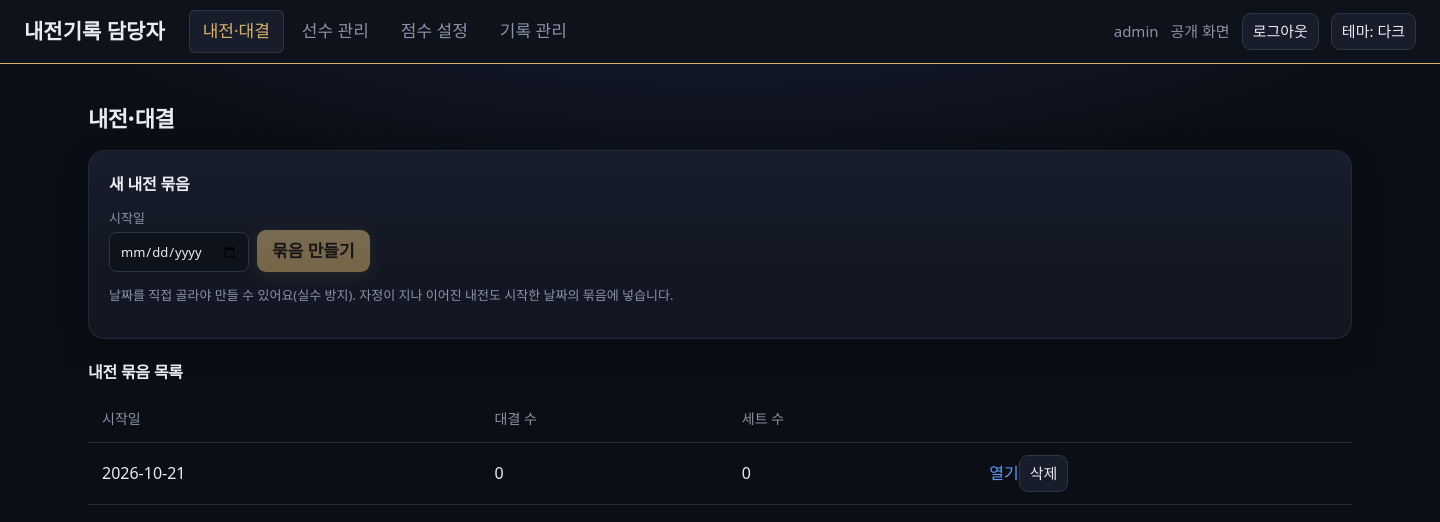
Test: SessionsPage 묶음 삭제 › 확인하면 DELETE하고 목록을 새로 불러와 행이 사라진다
Step 1. Click the button with aria-label "2026-10-21 묶음 삭제" → (1044, 473), box [1019,455,1068,492]
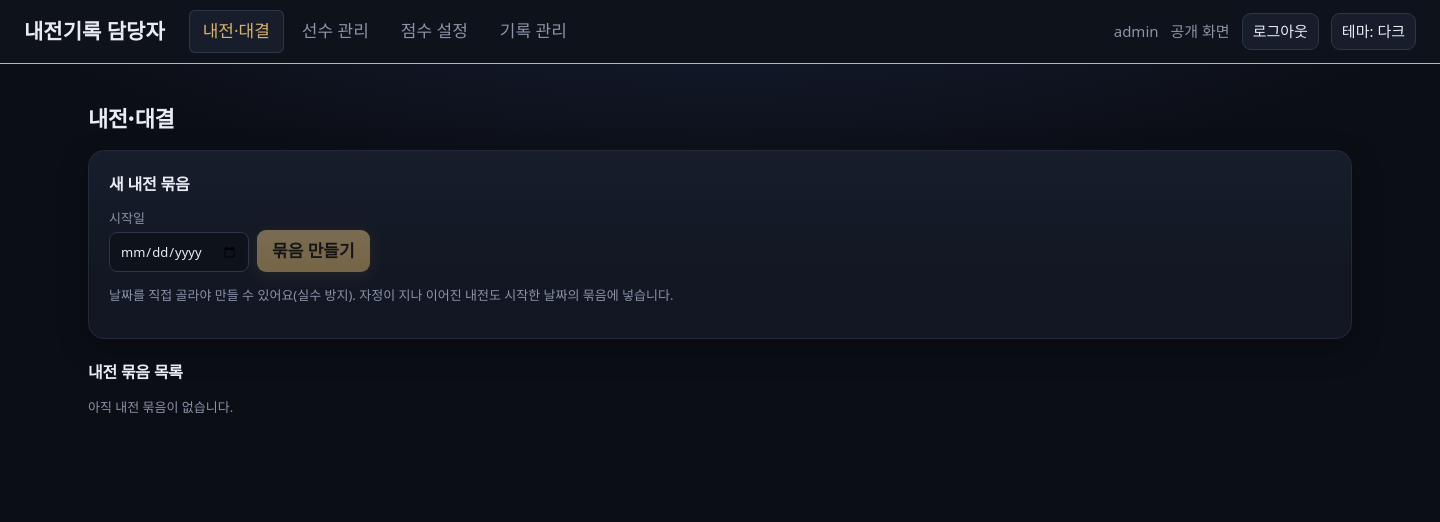
Expected: the text "아직 내전 묶음이 없습니다." is shown, [88,398,233,416]
